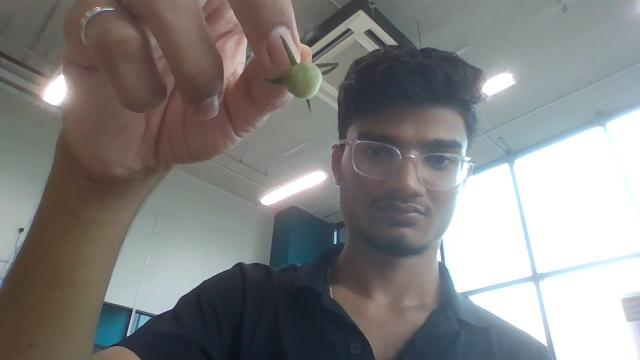Fruit Maturation: (283, 61, 323, 99)
